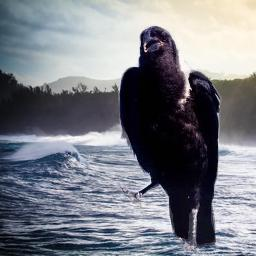Crow: (117, 24, 222, 255)
